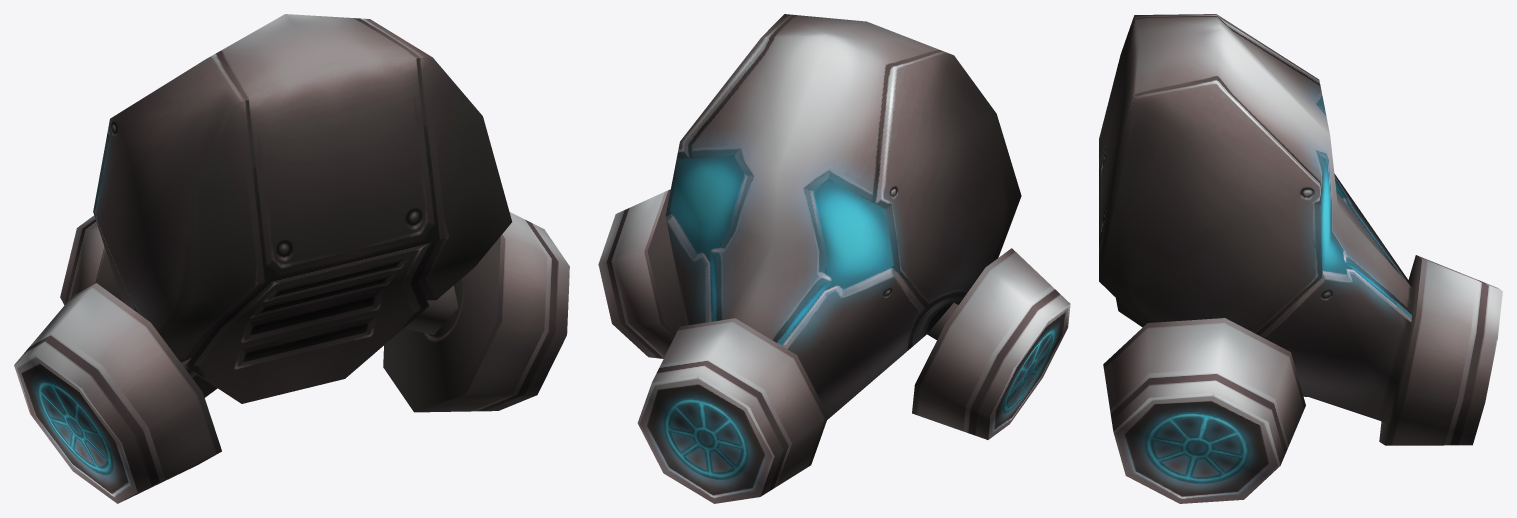
3 renders of one model, left to right at view 1: azimuth 30°, elevation 25°; view 2: azimuth 150°, elevation 25°; view 3: azimuth 270°, elevation 25°, orthographic. The views are drawn at different scales.
Parts seen in each view (by area): view 1: 3_Z_6; view 2: 3_Z_6; view 3: 3_Z_6.
Part boxes in pixels (<box>): 3_Z_6: <box>14,14,569,503</box>; 3_Z_6: <box>598,14,1070,503</box>; 3_Z_6: <box>1099,14,1502,503</box>.
Size of the model in its own units: 97.43 by 73.2 by 82.46.
